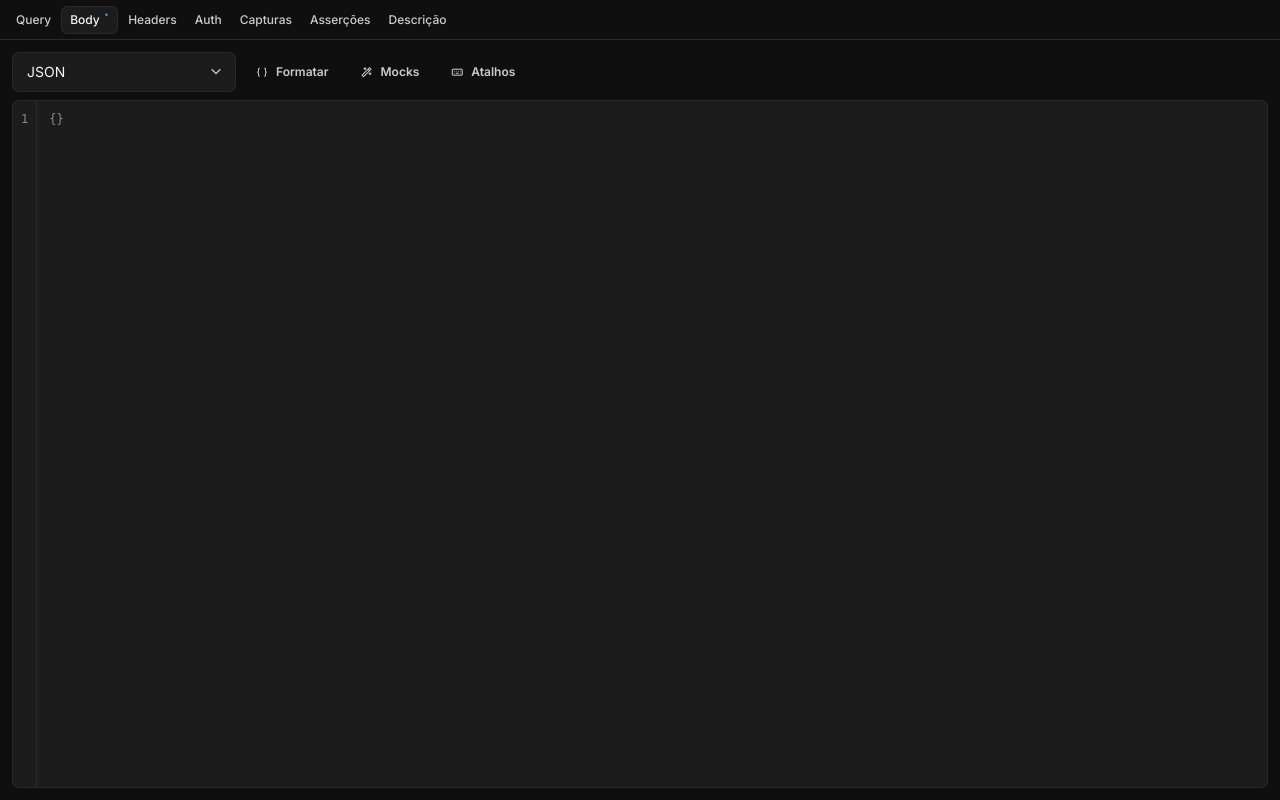
Scenario: RequestPane › opens on the body when there is one, and switches the body modes keeping the content
This screenshot has width=1280, height=800.
Select "XML" in the dropdown named "Tipo do body" at (124, 72), box [12,52,236,92]
Replace the text in the text box named "Body" with "<a/>" at (652, 444), box [37,101,1267,787]
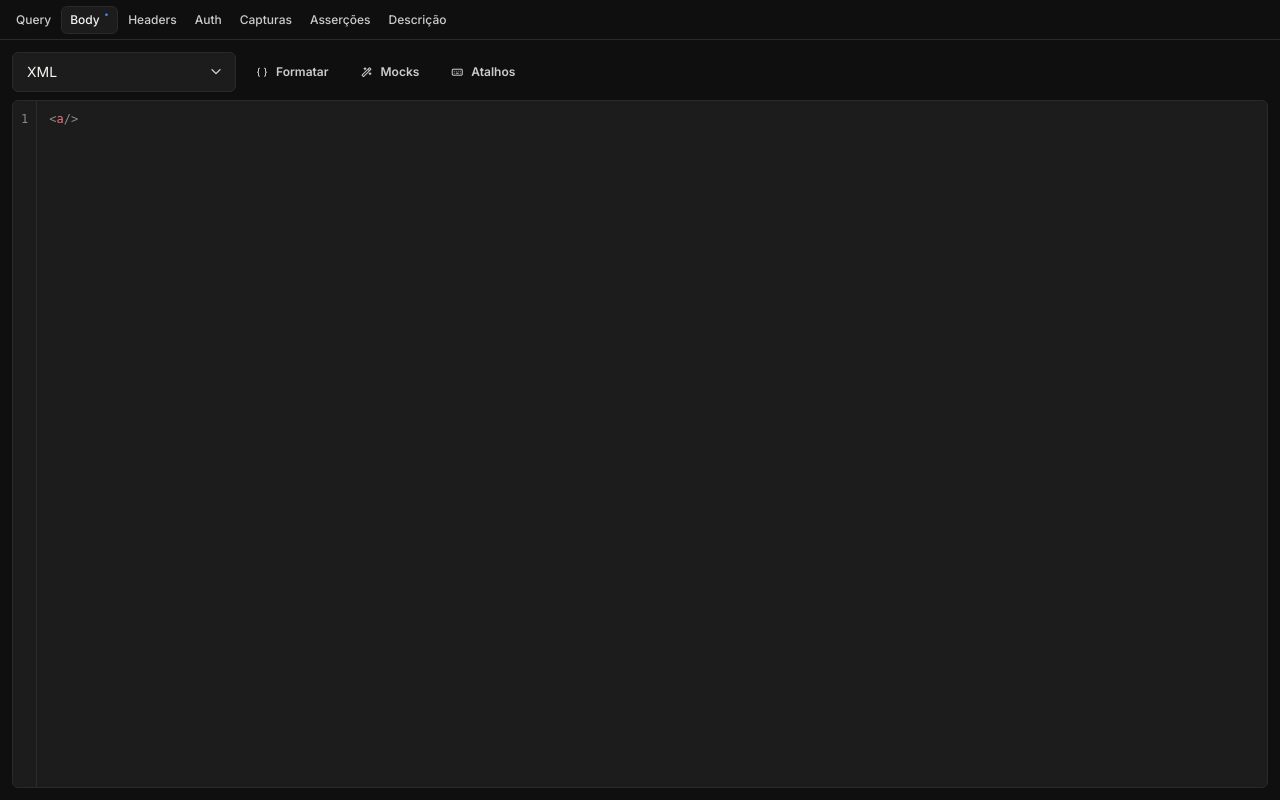
Select "Multipart Form" in the dropdown named "Tipo do body" at (124, 72), box [12,52,236,92]
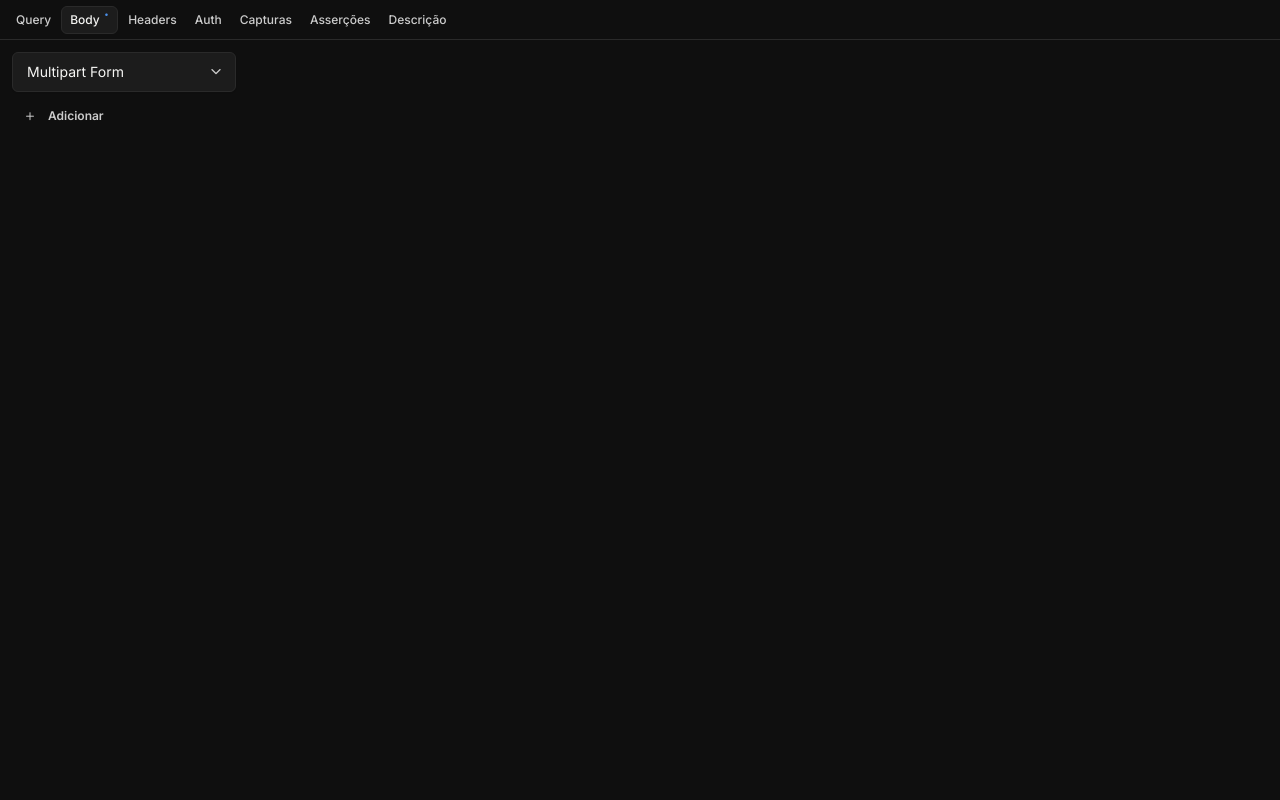
Click the button "Adicionar".
click(64, 116)  # box [12,100,116,132]
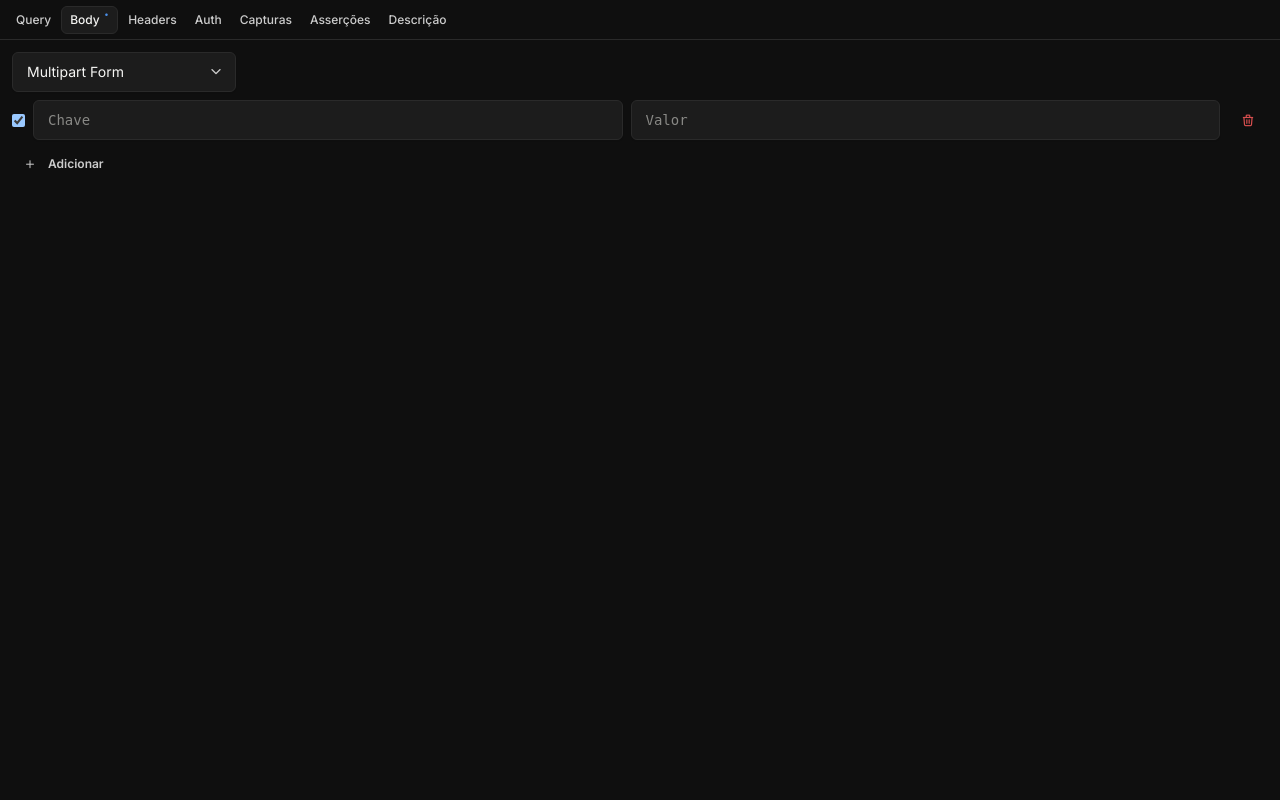
Select "Form URL Encoded" in the dropdown named "Tipo do body" at (124, 72), box [12,52,236,92]
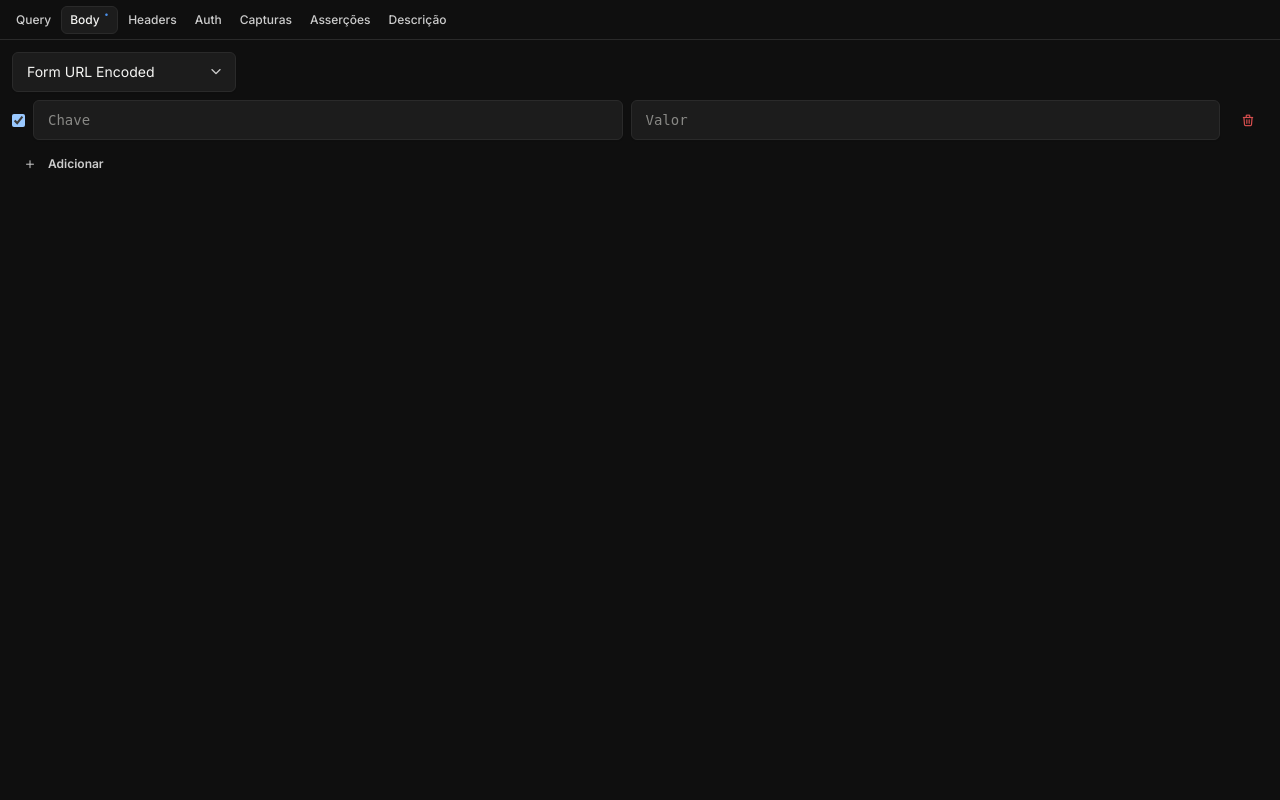
Select "Text" in the dropdown named "Tipo do body" at (124, 72), box [12,52,236,92]
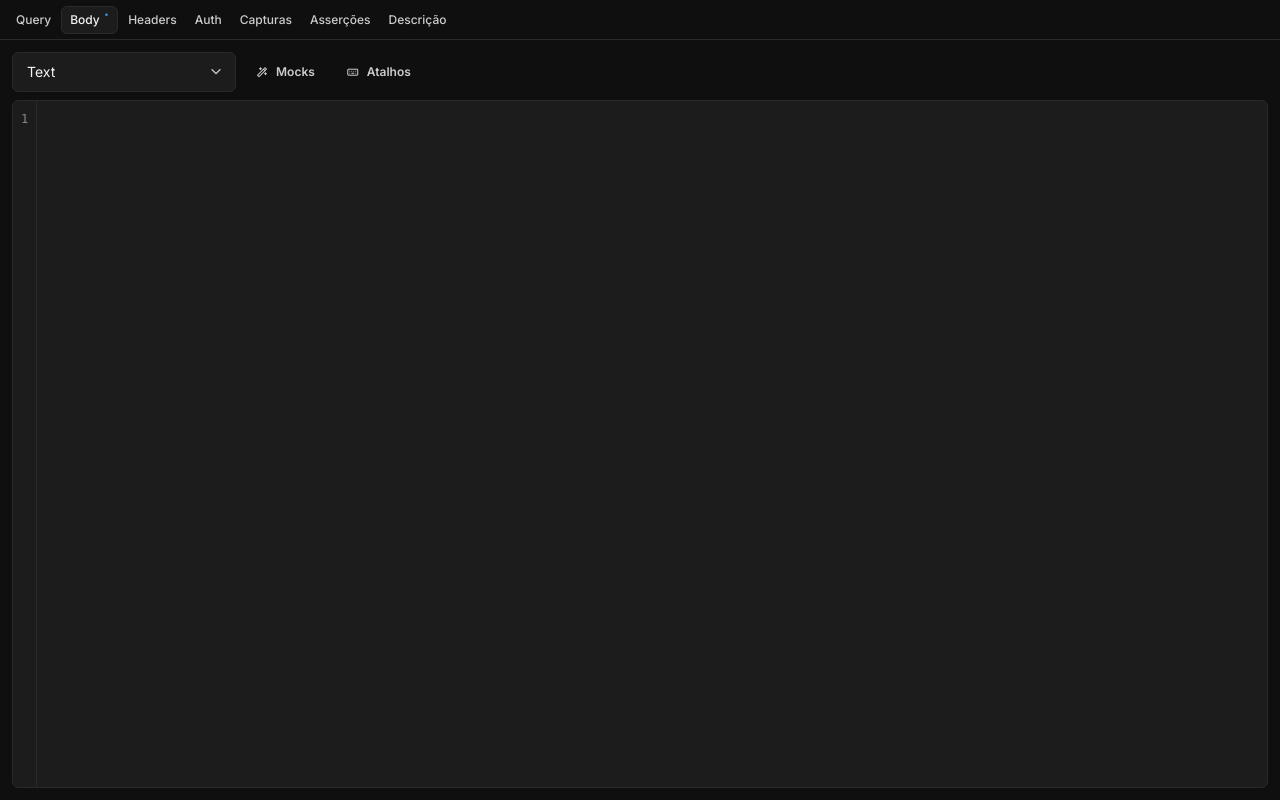
Select "Sem body" in the dropdown named "Tipo do body" at (124, 72), box [12,52,236,92]
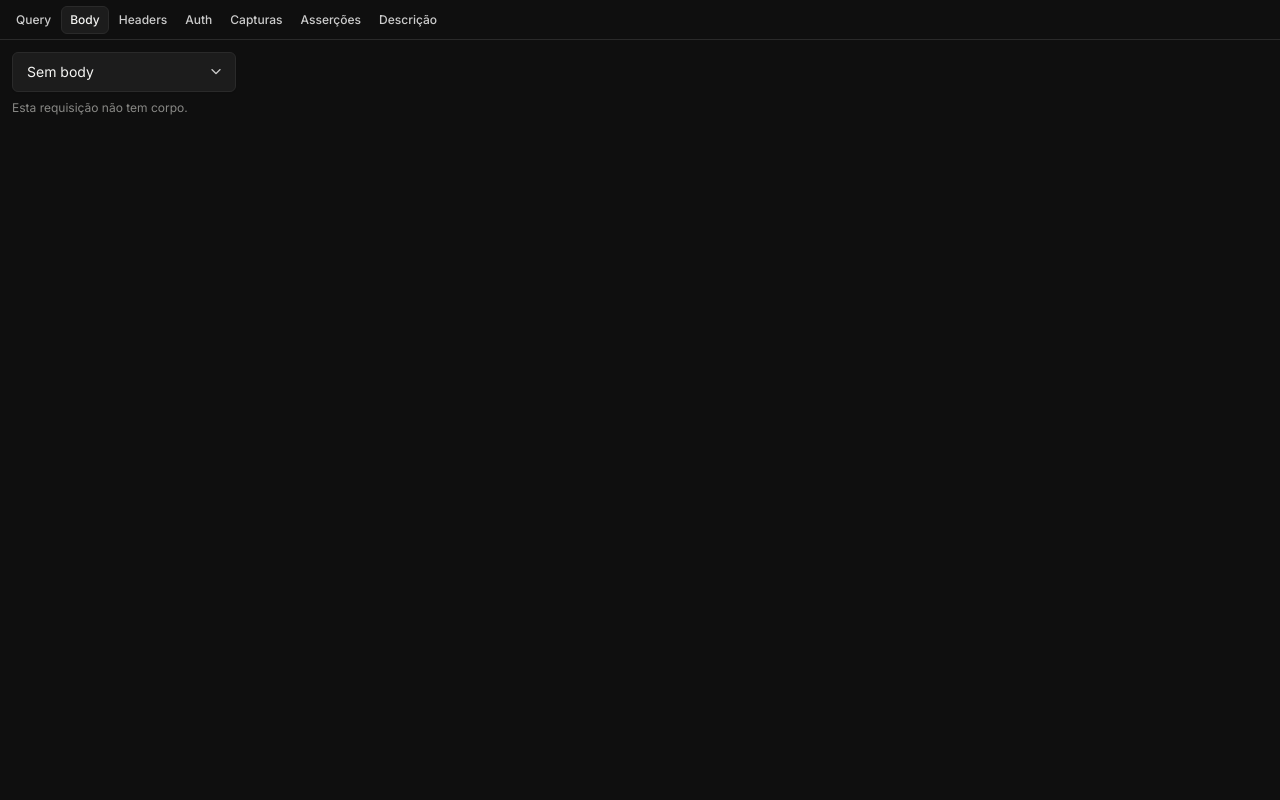
Check: the text "Esta requisição não tem corpo." is shown, box [12,100,188,115]
